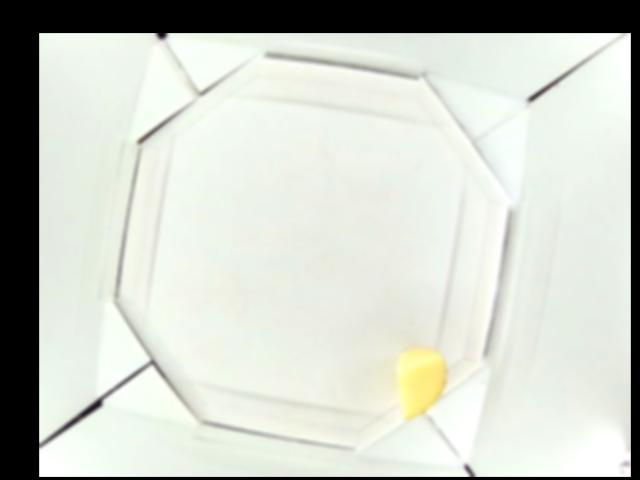Potato: (396, 346, 448, 419)
